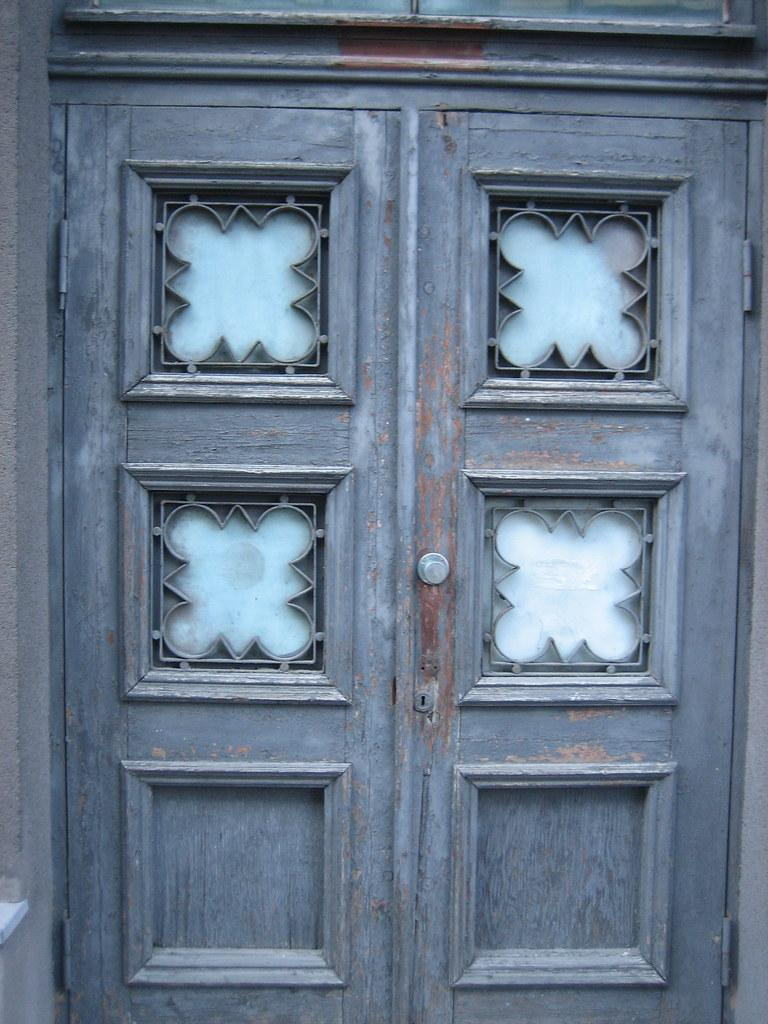door: (48, 34, 759, 1021)
